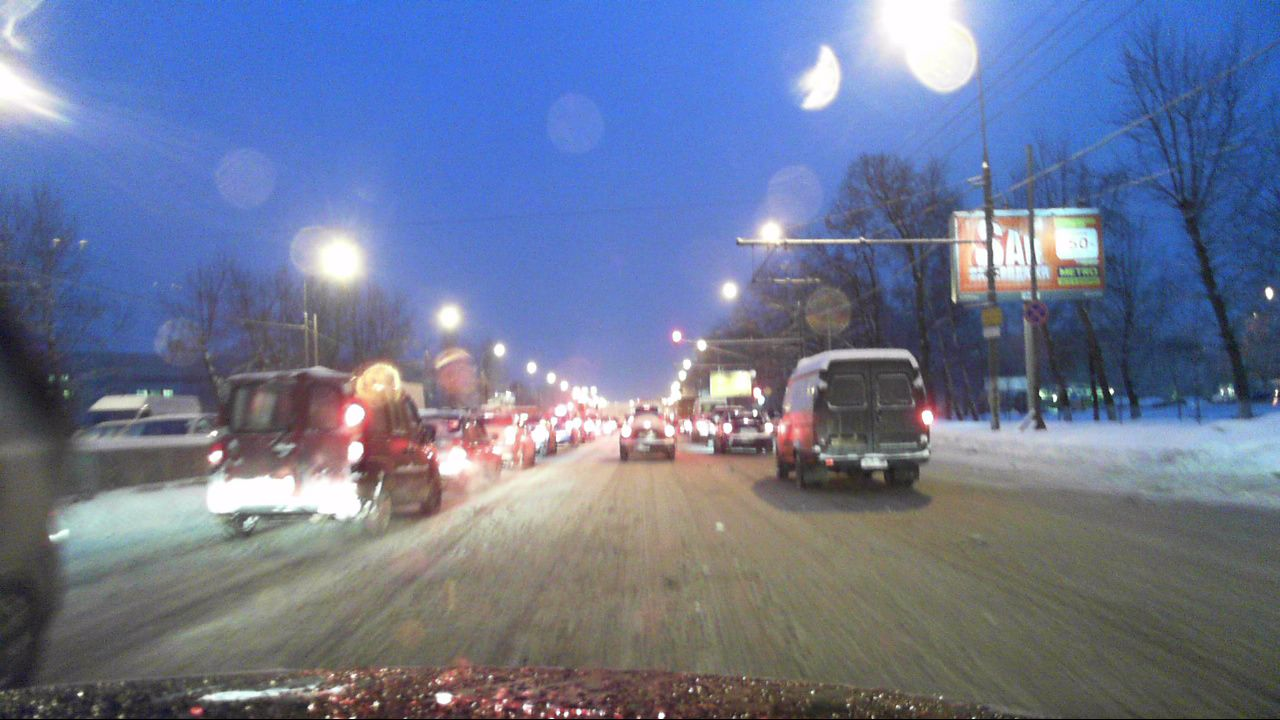No Parking: (1022, 296, 1049, 323)
